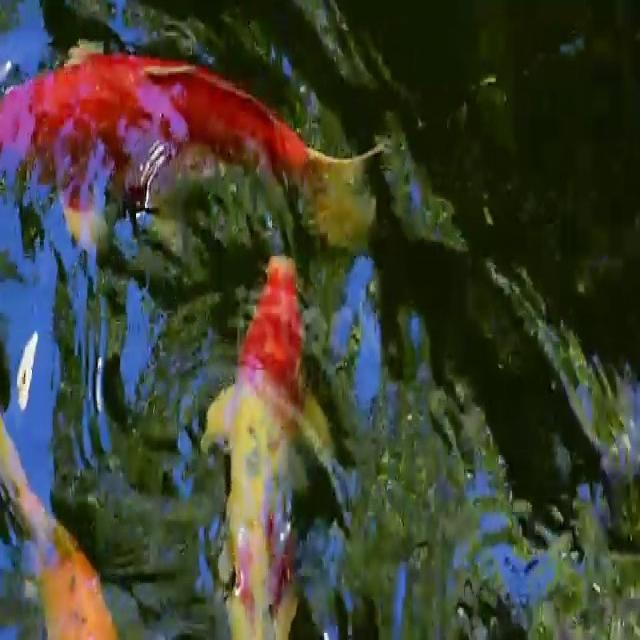fish: (0, 45, 387, 243), (206, 250, 349, 640), (0, 391, 118, 640)
